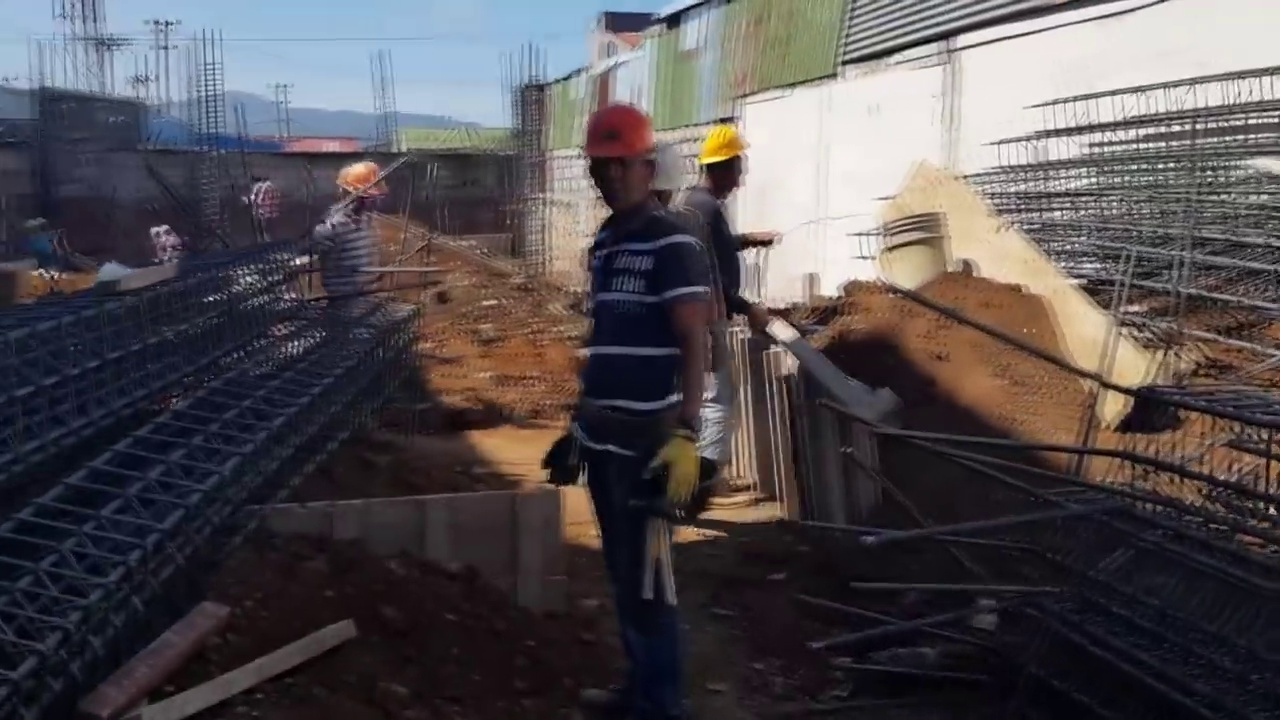helmet: (578, 102, 661, 160), (696, 122, 749, 167), (338, 161, 390, 202)
helmet-off: (250, 171, 270, 184)
helmet-on: (581, 104, 664, 211), (690, 120, 753, 205), (334, 158, 390, 219)
person: (559, 104, 711, 670), (675, 118, 778, 396), (298, 151, 395, 341), (248, 173, 281, 243)
